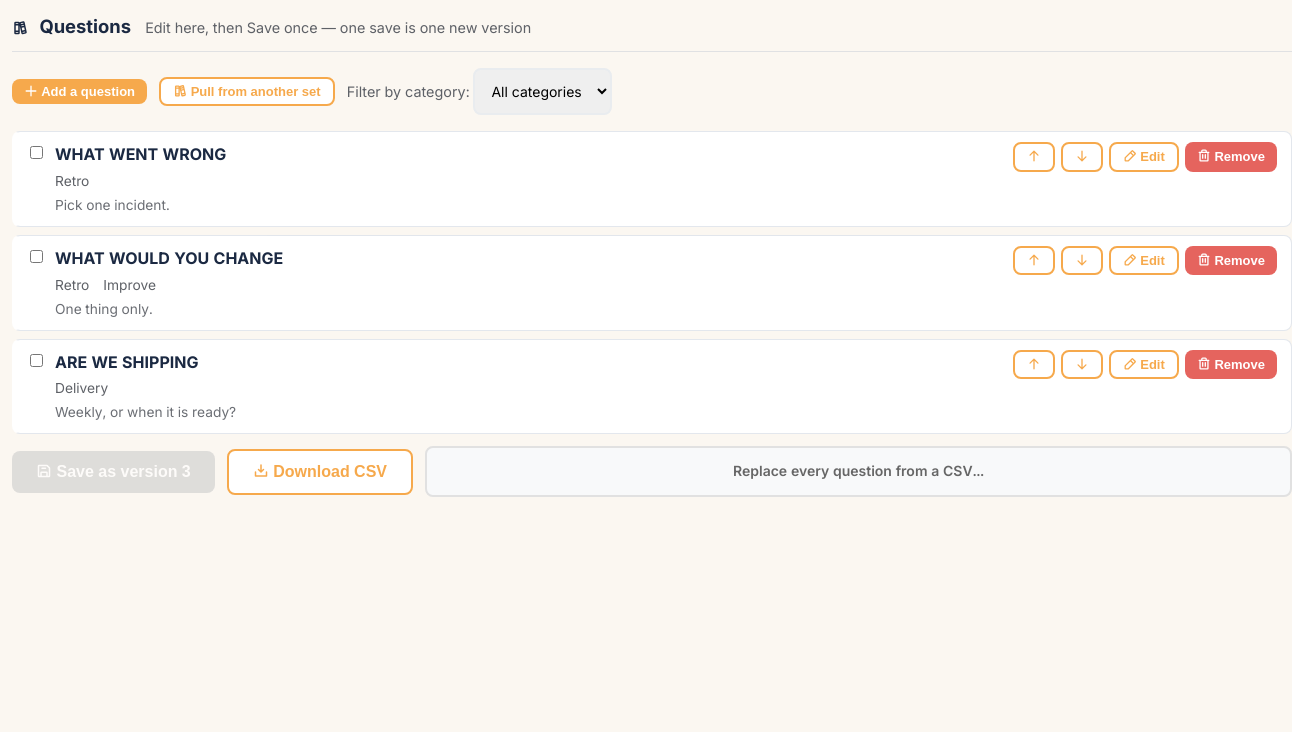
the working copy › keeps the working copy when the save fails
Expected: the text "WHAT WENT WRONG" is shown, [55,142,226,168]
Click the button "Remove" in the row of "ARE WE SHIPPING".
click(1231, 364)  # box [1185,350,1277,379]
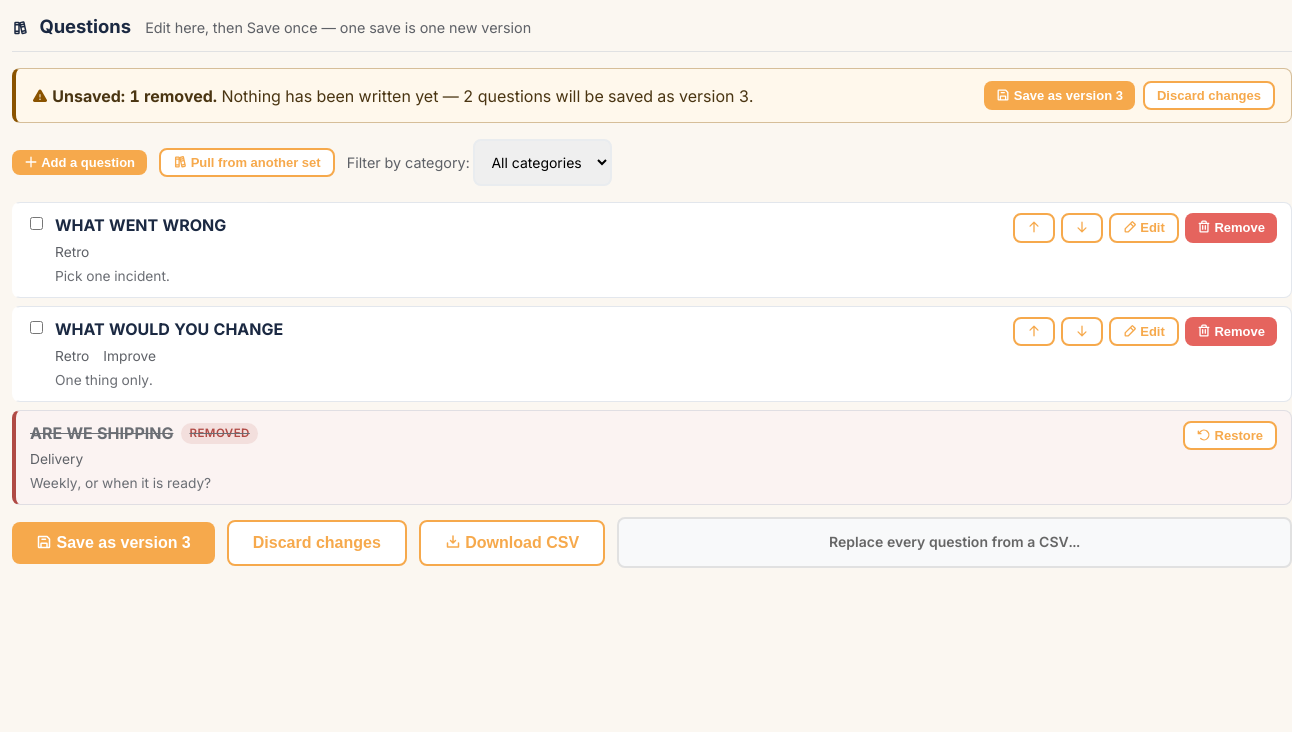
Click the button "Save as version 3" in the row of "as version 3.".
click(1060, 96)  # box [984,81,1135,110]
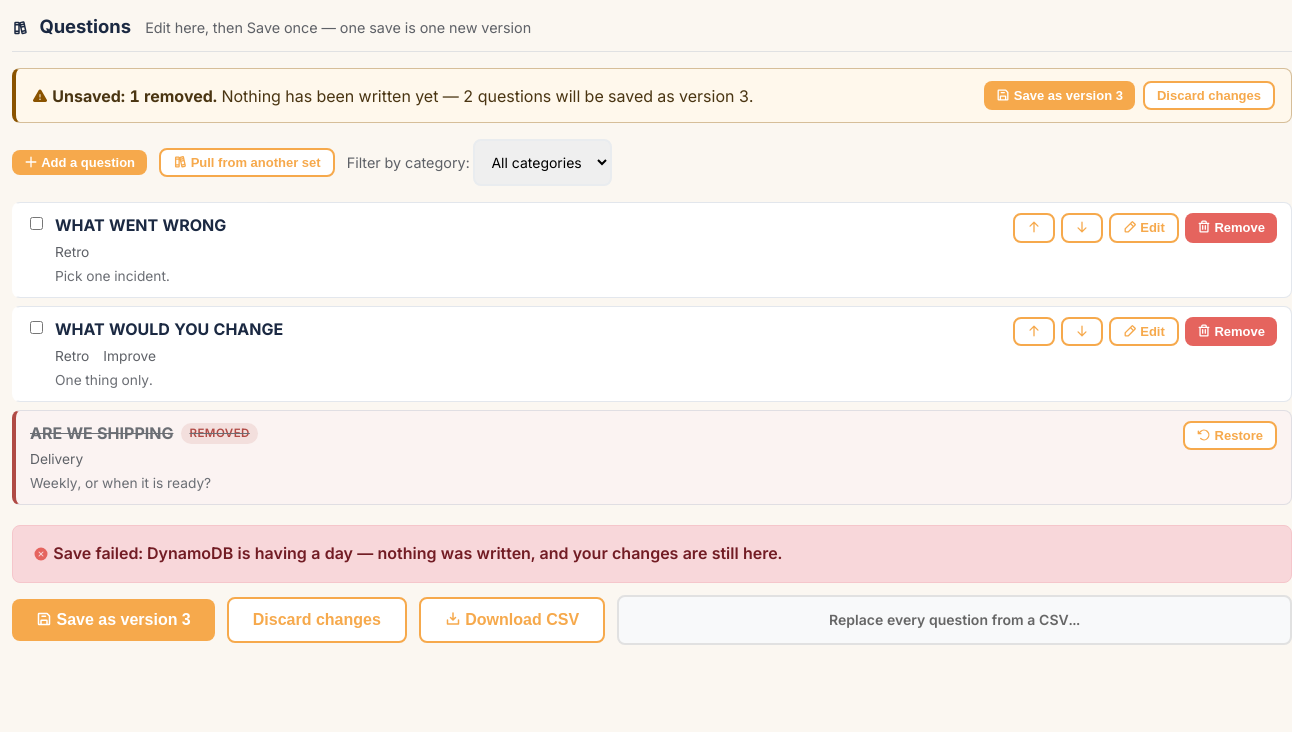
Expected: the message with test id "unsaved-bar" is shown, [12,68,1291,123]
Expected: the text "DynamoDB is having a day" shows "nothing was written, and your changes are still here", [53,543,782,563]
